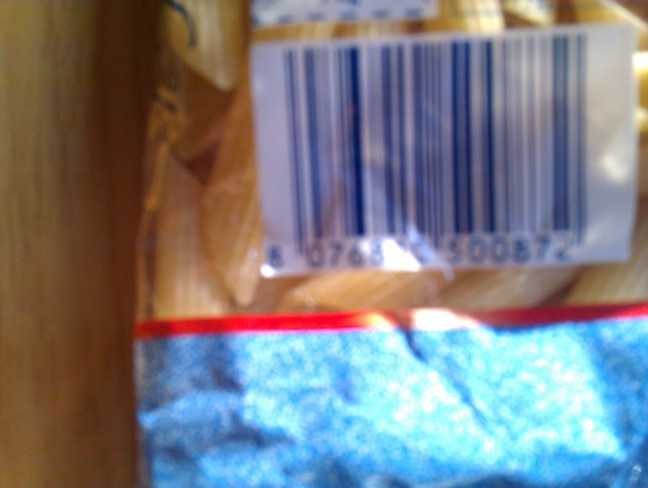barcode: (242, 38, 603, 275)
